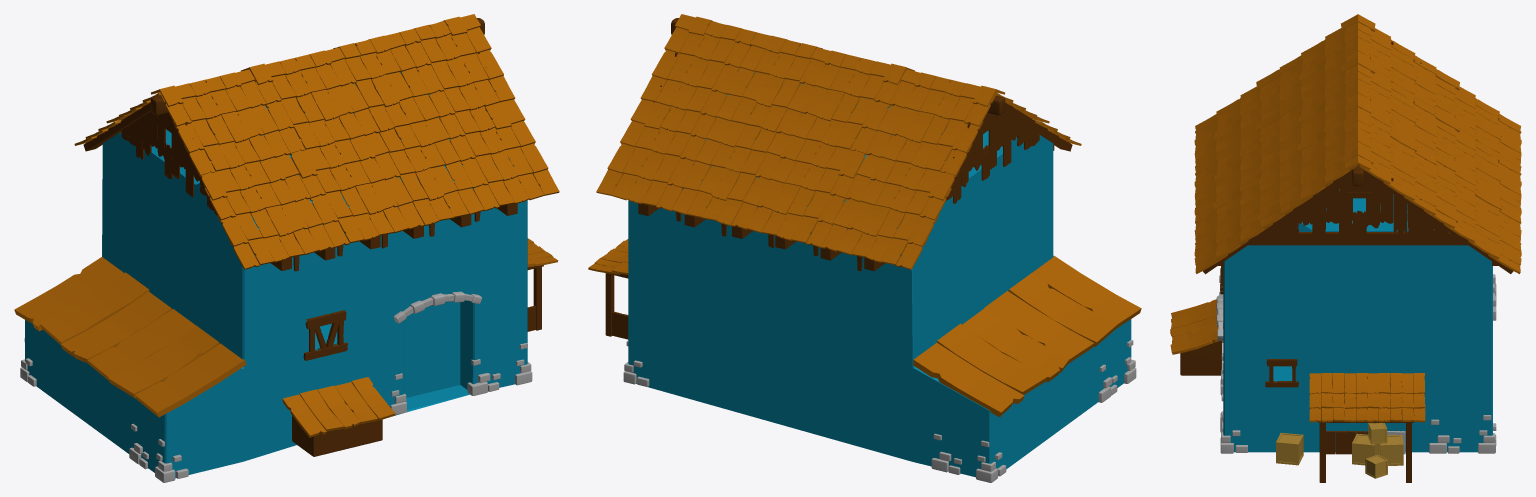
Rendered from farm house.fbx.
The picture shows the model from 3 angles, left to right: view 1: azimuth 30°, elevation 25°; view 2: azimuth 150°, elevation 25°; view 3: azimuth 270°, elevation 25°; orthographic projection. The views are drawn at different scales.
Visible parts, largest first — view 1: pCube1, polySurface55, pCube16, pCube17, pCube15, pCube85, pCube9, pCube112, pCube84, pCube81, polySurface58, pCube69 (+1 smaller); view 2: pCube1, polySurface55, pCube16, pCube17, pCube85, pCube113, pCube112, pCube96, pCube32, pCube84; view 3: polySurface55, pCube1, pCube65, pCube94, pCube15, pCube42, pCube95, pCube96, pCube31, pCube9, pCube83, pCube86 (+9 smaller).
Boxes of the visible parts, left/top/right/bottom form: pCube1: left=25, top=72, right=527, bottom=478; polySurface55: left=74, top=14, right=559, bottom=269; pCube16: left=14, top=257, right=246, bottom=417; pCube17: left=88, top=309, right=219, bottom=398; pCube15: left=282, top=377, right=395, bottom=437; pCube85: left=121, top=111, right=217, bottom=214; pCube9: left=292, top=415, right=382, bottom=456; pCube112: left=271, top=203, right=517, bottom=270; pCube84: left=129, top=423, right=188, bottom=482; pCube81: left=467, top=343, right=532, bottom=395; polySurface58: left=303, top=310, right=347, bottom=360; pCube69: left=393, top=291, right=481, bottom=323; pCube1: left=628, top=72, right=1131, bottom=477; polySurface55: left=596, top=14, right=1081, bottom=269; pCube16: left=913, top=255, right=1141, bottom=417; pCube17: left=984, top=272, right=1117, bottom=363; pCube85: left=945, top=111, right=1039, bottom=203; pCube113: left=931, top=433, right=1006, bottom=482; pCube112: left=638, top=203, right=884, bottom=271; pCube96: left=588, top=239, right=628, bottom=274; pCube32: left=903, top=103, right=1072, bottom=251; pCube84: left=1098, top=340, right=1136, bottom=402; polySurface55: left=1194, top=14, right=1521, bottom=273; pCube1: left=1223, top=189, right=1492, bottom=452; pCube65: left=1258, top=174, right=1448, bottom=244; pCube94: left=1309, top=373, right=1424, bottom=394; pCube15: left=1170, top=299, right=1223, bottom=354; pCube42: left=1248, top=232, right=1467, bottom=245; pCube95: left=1309, top=389, right=1424, bottom=408; pCube96: left=1309, top=403, right=1425, bottom=422; pCube31: left=1203, top=164, right=1513, bottom=274; pCube9: left=1180, top=340, right=1222, bottom=375; pCube83: left=1429, top=415, right=1496, bottom=453; pCube86: left=1276, top=432, right=1303, bottom=465.
Bounding box in the file's own units: 40.64 × 28.07 × 28.78.
